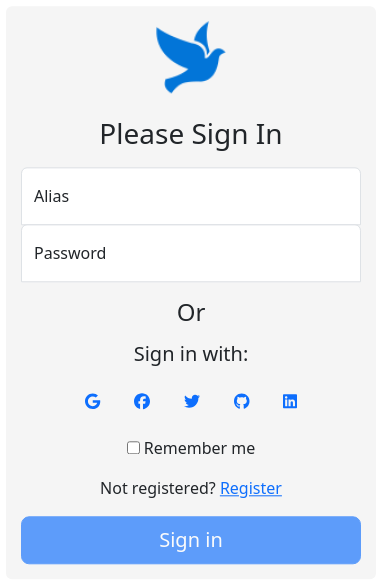
Scenario: Login Component › disables signin button if either field is clear
Type "a" into the field labelled "Alias". click: (191, 196)
box: [21,167,361,225]
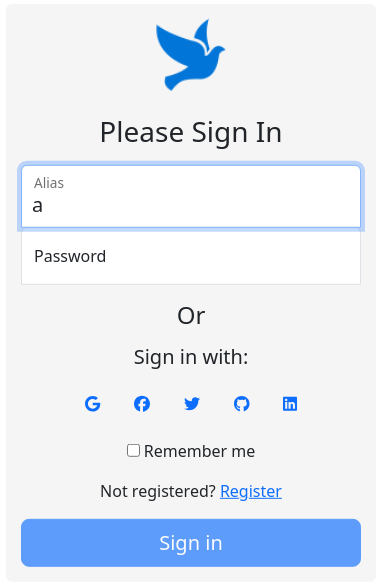
Type "a" into the password field labelled "Password". click: (191, 255)
box: [21,226,361,284]
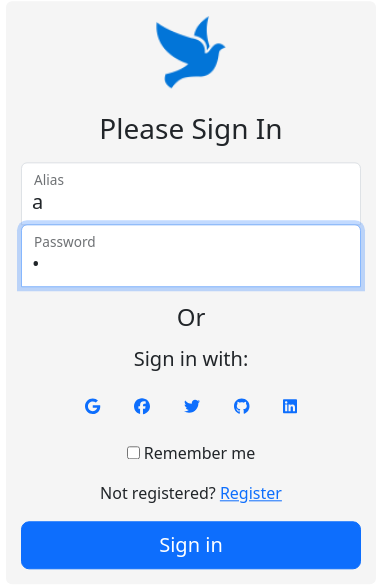
Check: the button "Sign in" is enabled, box [21,522,361,570]
Clear the field labelled "Alias". click: (191, 193)
box: [21,162,361,225]
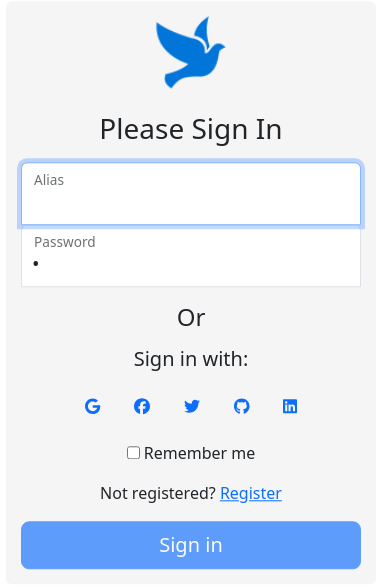
Check: the button "Sign in" is disabled, box [21,522,361,570]
Type "b" into the field labelled "Alias". click: (191, 193)
box: [21,162,361,225]
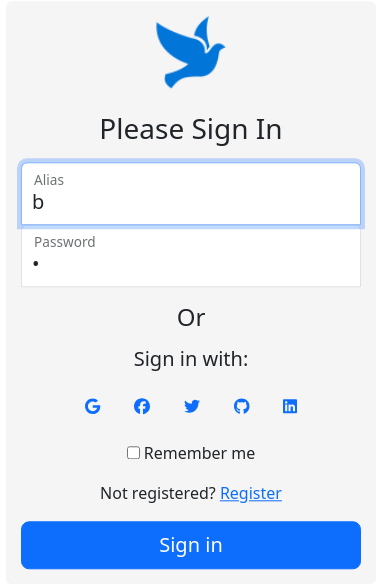
Check: the button "Sign in" is enabled, box [21,522,361,570]
Clear the password field labelled "Password". click: (191, 255)
box: [21,224,361,287]
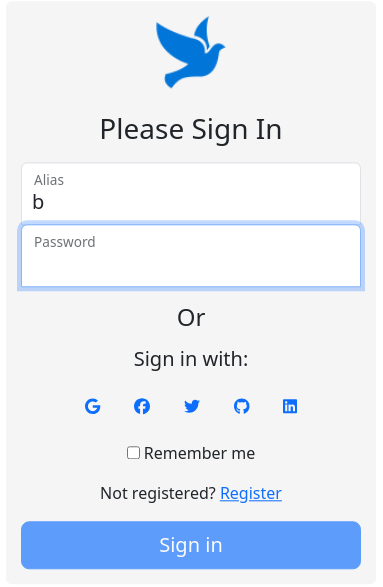
Check: the button "Sign in" is disabled, box [21,522,361,570]
